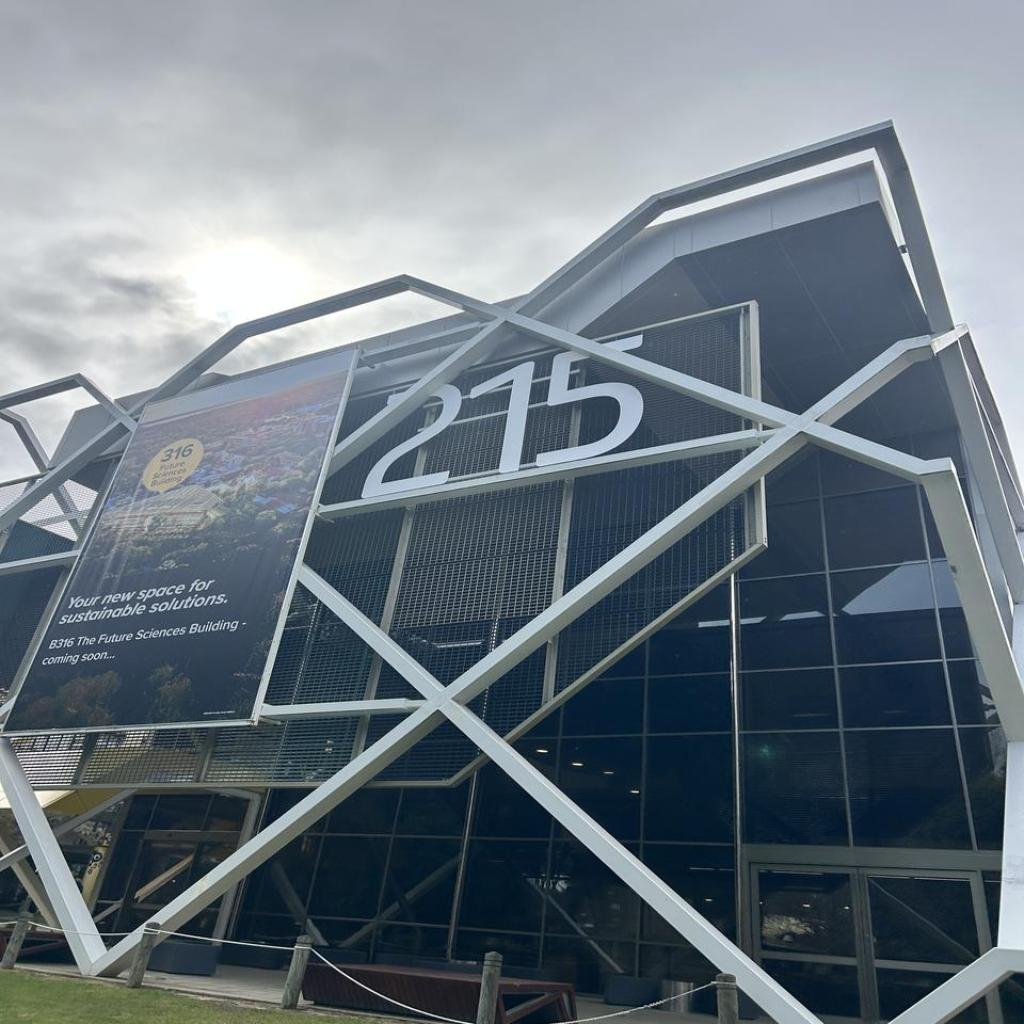BuildingCodes: (358, 332, 646, 502)
